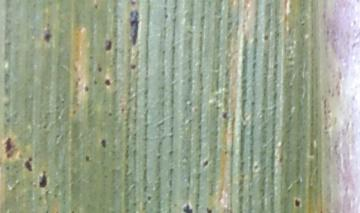tarspot: (126, 8, 141, 48), (3, 136, 15, 158), (37, 168, 47, 191), (22, 156, 34, 172), (104, 38, 114, 55), (42, 30, 55, 43), (102, 76, 113, 90), (292, 195, 303, 209), (182, 201, 193, 213), (219, 110, 231, 120), (82, 153, 91, 165), (201, 159, 211, 169), (128, 61, 138, 71), (99, 138, 108, 149), (204, 205, 215, 213), (96, 65, 104, 75)
